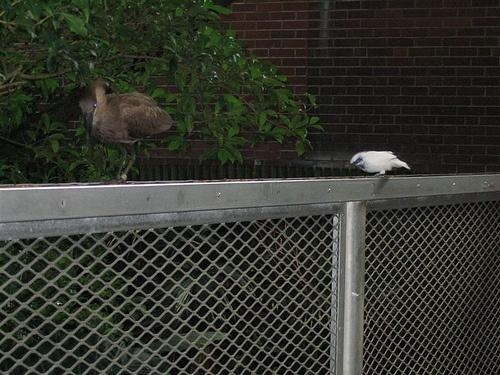bird: (79, 78, 174, 188), (351, 151, 412, 179)
